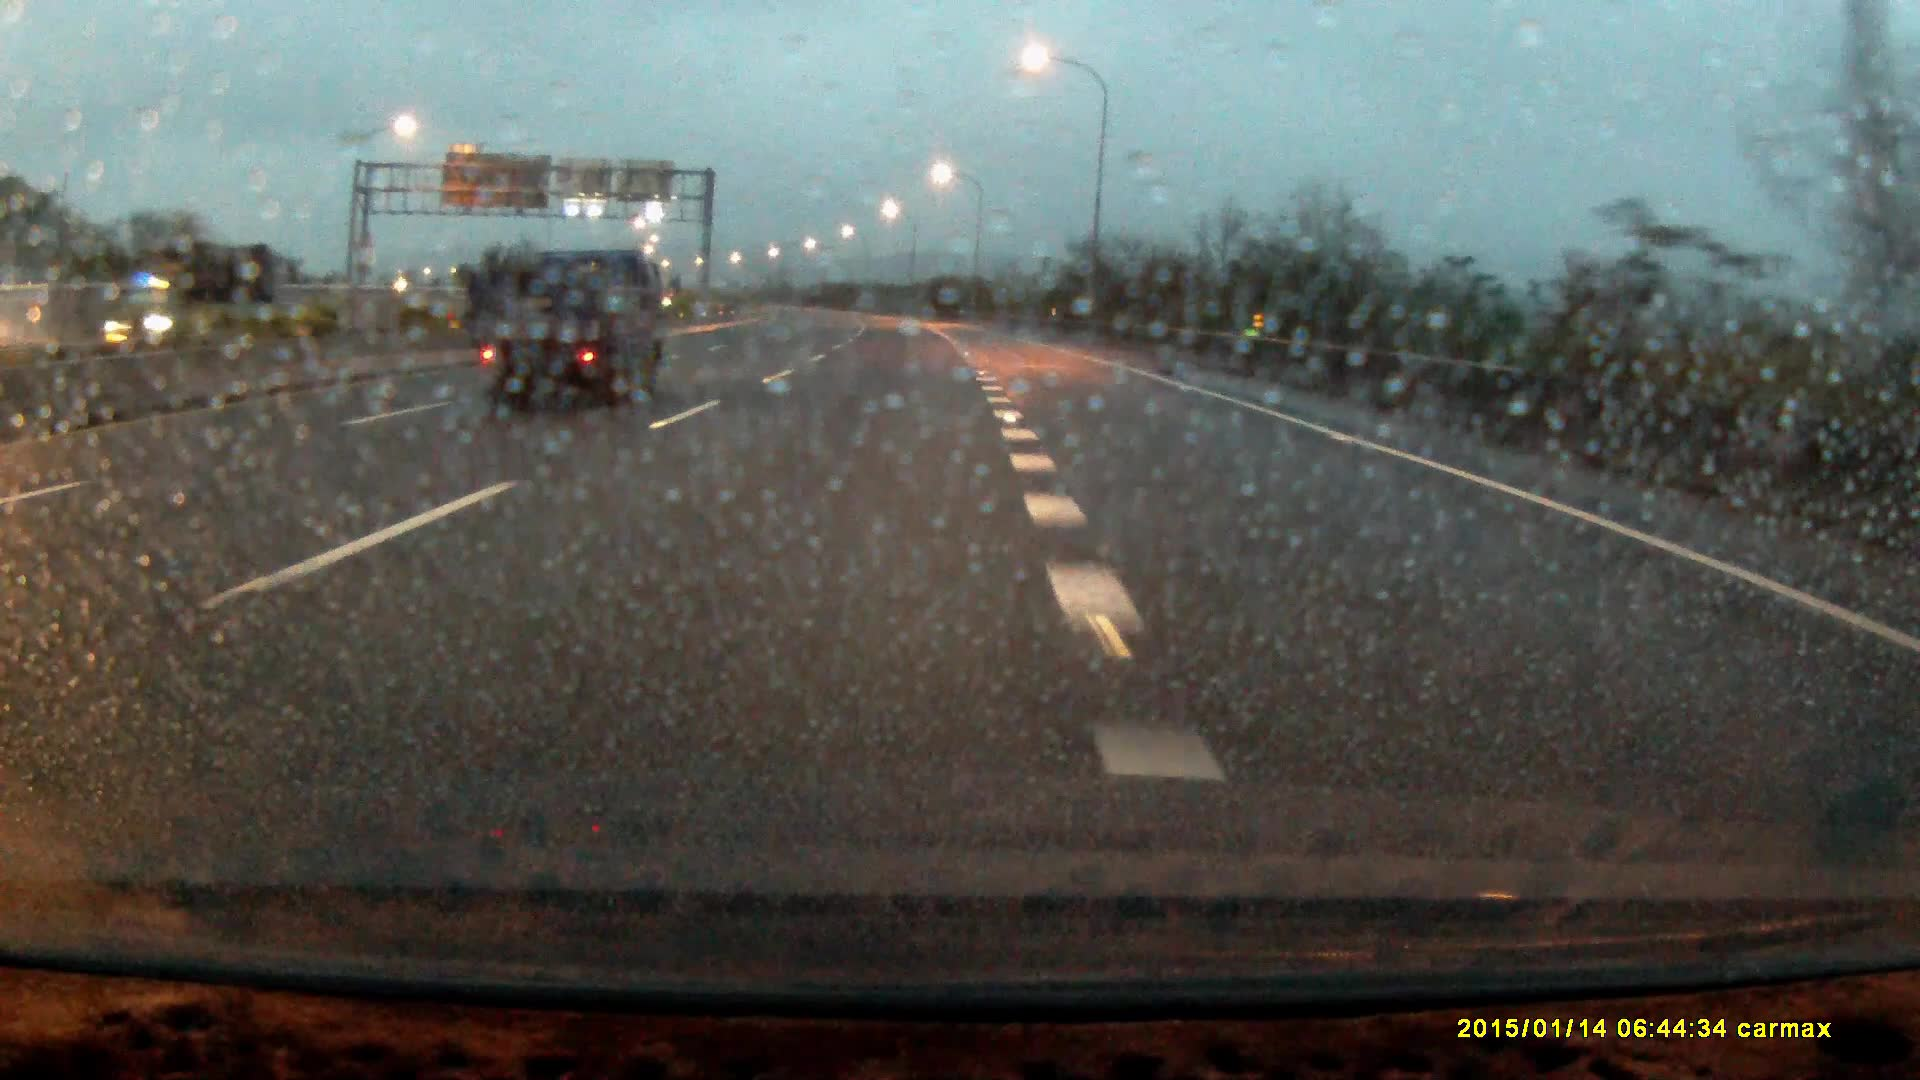vehicle: (465, 248, 669, 411), (105, 240, 277, 345)
